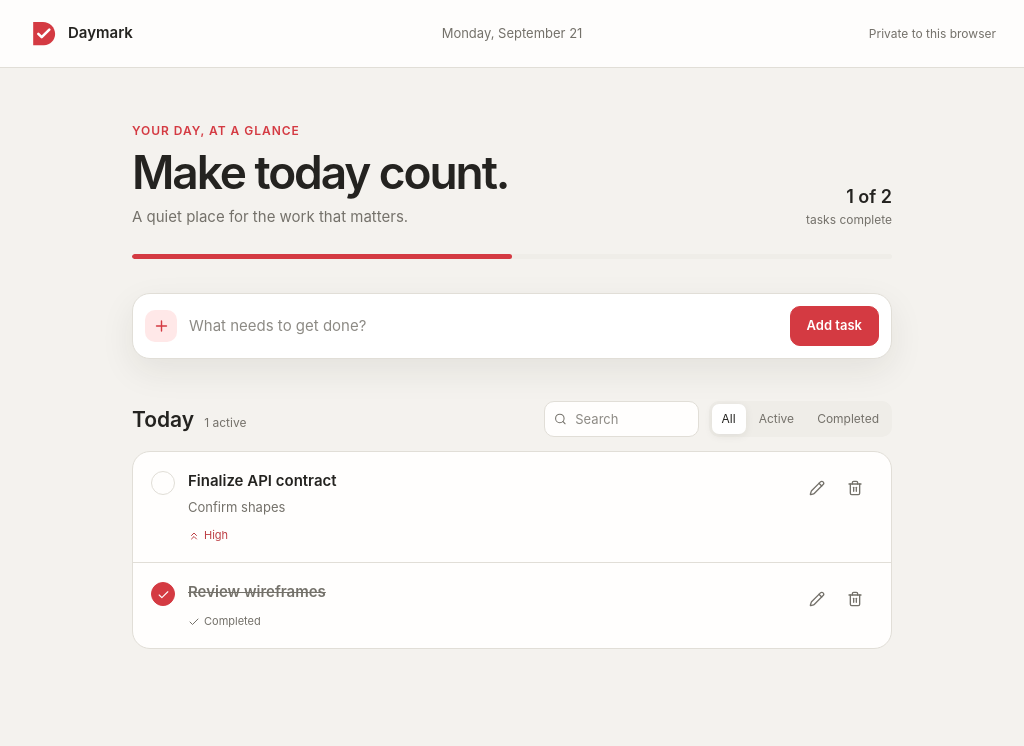
Scenario: App › creates a task and resets the composer
The width and height of the screenshot is (1024, 746).
Expected: the heading "Finalize API contract" is shown, [188,471,337,490]
Type "Ship README" into the field named "Task title" at (483, 326), box [189,306,778,346]
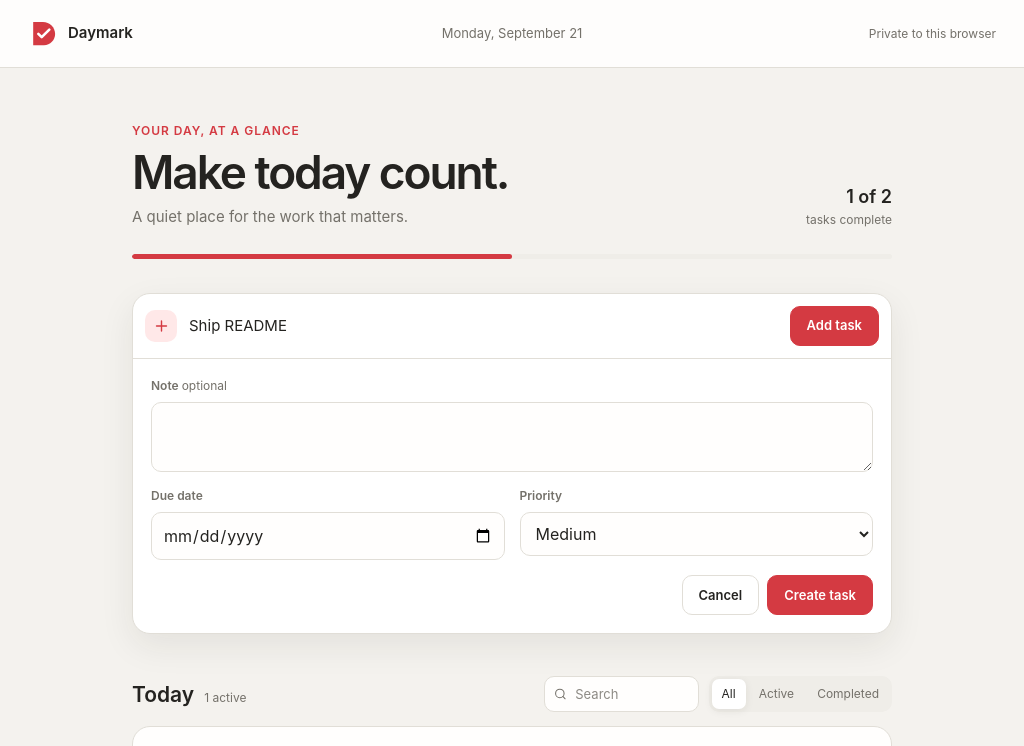
Click the button "Create task" at (820, 595), box [767,575,873,615]
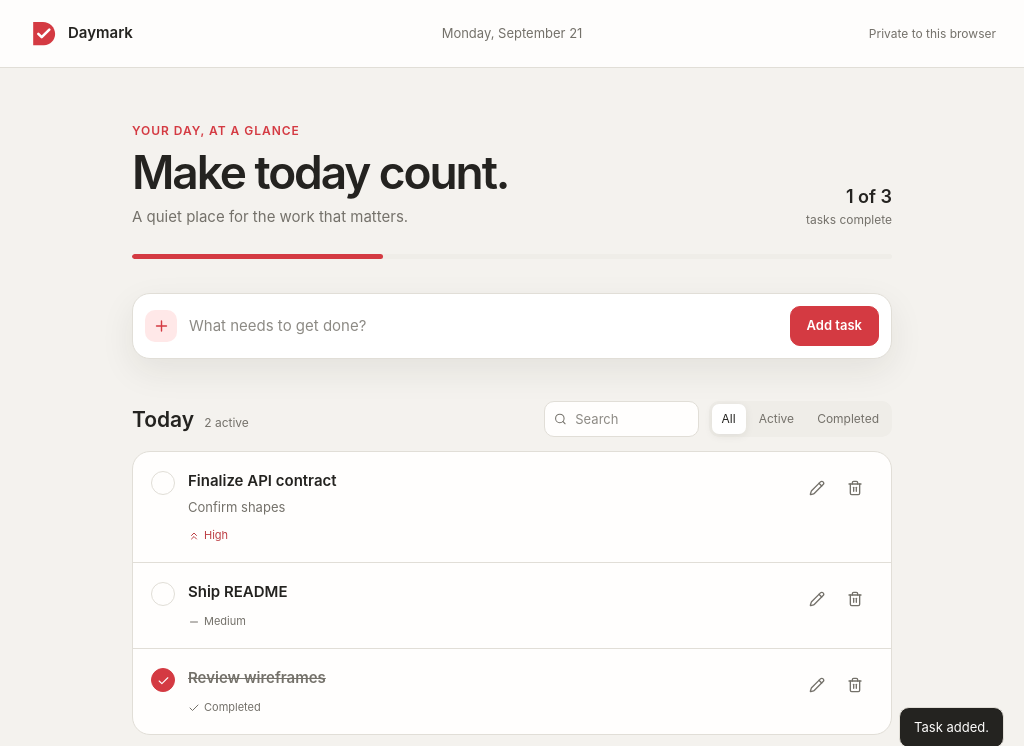
Expected: the heading "Ship README" is shown, [188,582,288,601]
Expected: the field named "Task title" is empty, [189,306,778,346]
